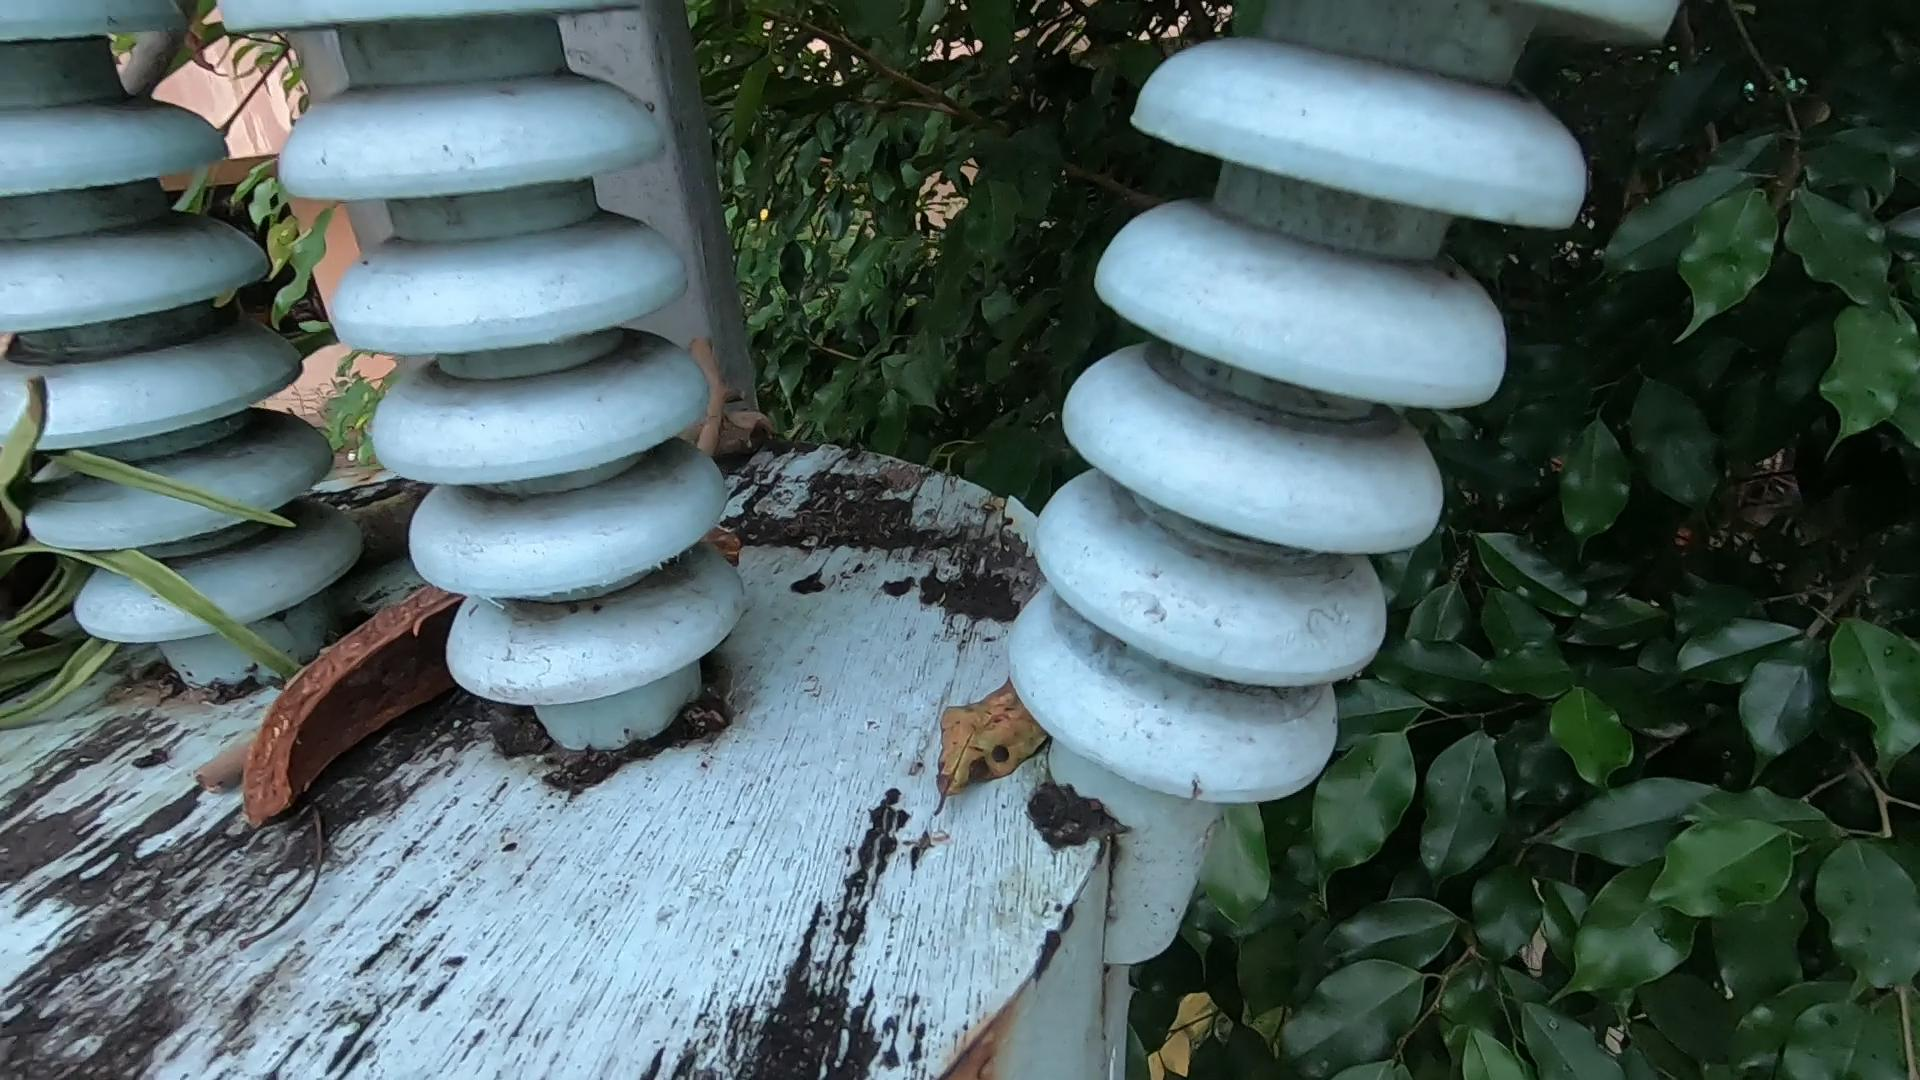branch with leaves: (1, 265, 440, 738)
leaf: (935, 621, 1056, 848)
mahogany fruit: (195, 467, 454, 853)
tree branch: (191, 696, 385, 890), (641, 301, 783, 484)
